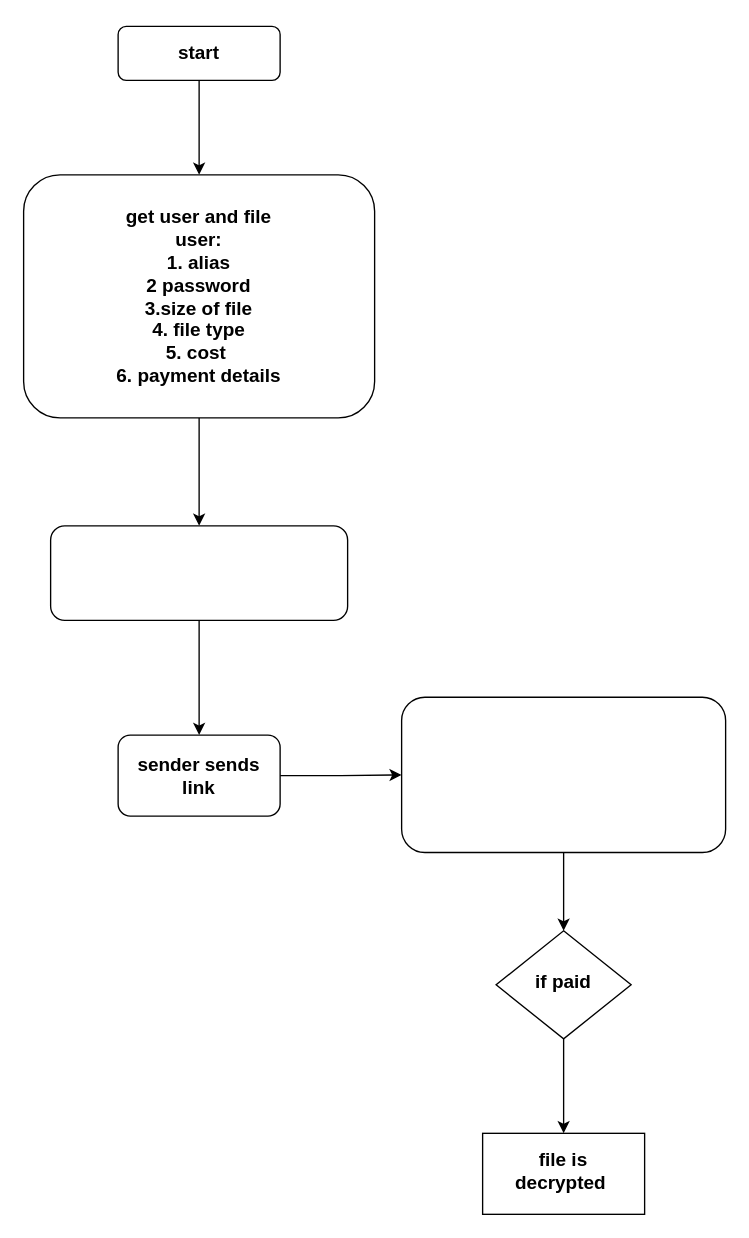
This 749x1238 diagram has some shape labels left out. Each missing label, with the centre of its shape:
encrypt file and produce a unique link: the point at 198,572
receiver gets link which takes them to file and payment with details: the point at 563,774
